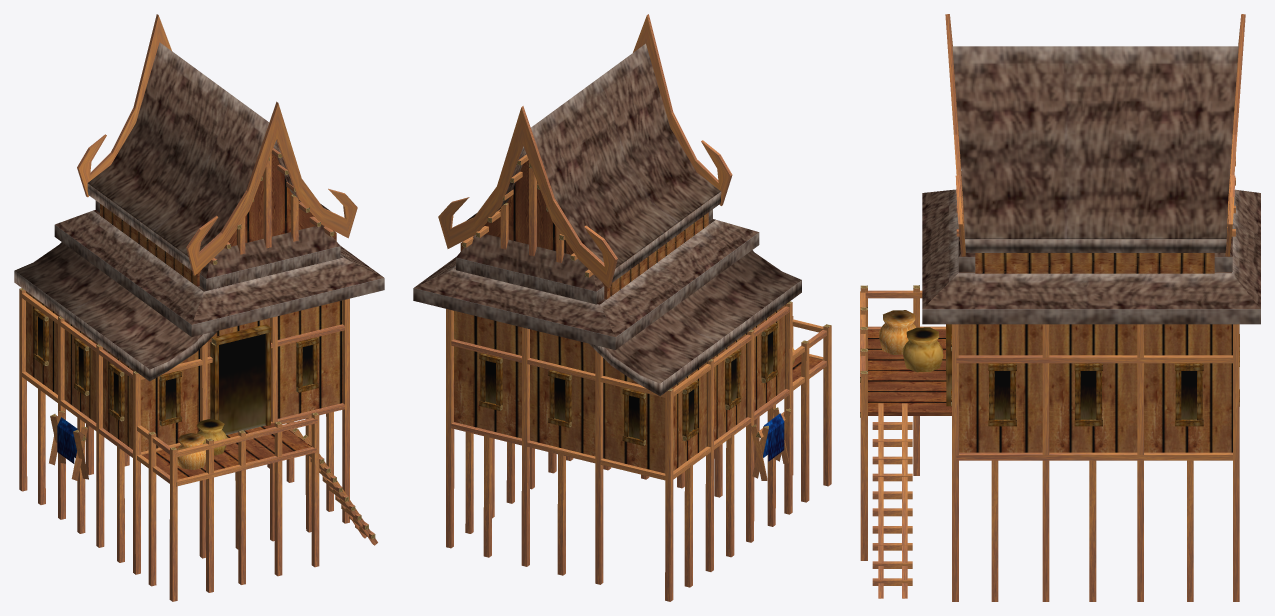
Rendered from house_2.dae.
3 views of the same model, side by side, from view 1: azimuth 30°, elevation 25°; view 2: azimuth 150°, elevation 25°; view 3: azimuth 270°, elevation 25° (orthographic). The views are drawn at different scales.
Visible parts, largest first — view 1: house_2; view 2: house_2; view 3: house_2.
Boxes of the visible parts, bbox=[...] form: house_2: bbox=[14, 14, 384, 601]; house_2: bbox=[413, 14, 831, 601]; house_2: bbox=[860, 14, 1260, 601].
Bounding box in the file's own units: 12.09 × 12.67 × 18.95.
